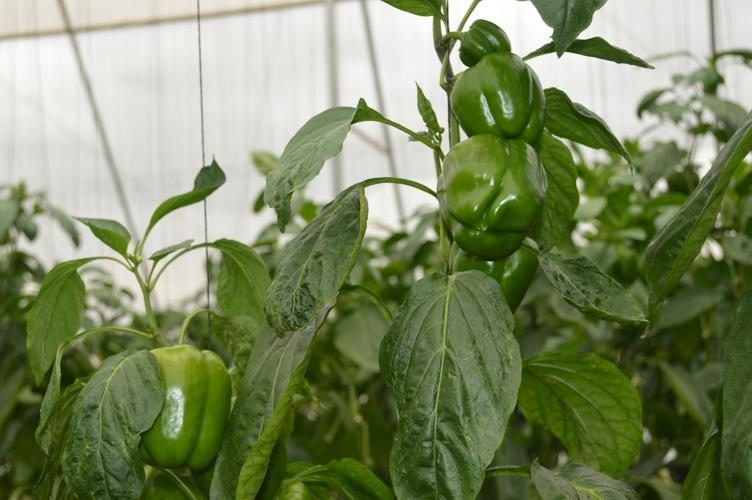BellPepper: (116, 335, 253, 465), (434, 135, 537, 261), (444, 47, 556, 143), (432, 231, 541, 319)
